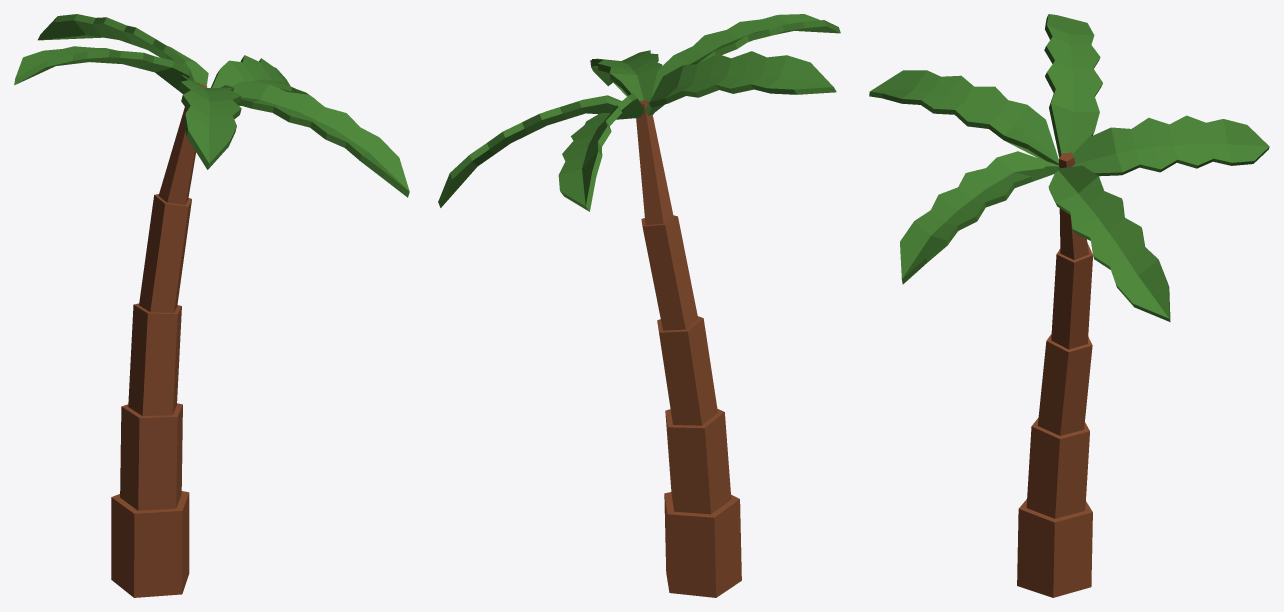
File: palm2.glb
3 renders of one model, left to right at view 1: azimuth 30°, elevation 25°; view 2: azimuth 150°, elevation 25°; view 3: azimuth 270°, elevation 25°, orthographic. The views are drawn at different scales.
Visible parts, largest first — view 1: пальма2; view 2: пальма2; view 3: пальма2.
Part boxes in pixels (bbox=[...]): пальма2: bbox=[14, 14, 409, 597]; пальма2: bbox=[438, 14, 840, 597]; пальма2: bbox=[869, 14, 1269, 597].
Bounding box in the file's own units: 3.02 × 4.61 × 3.23.
1 material, 1 textured.
